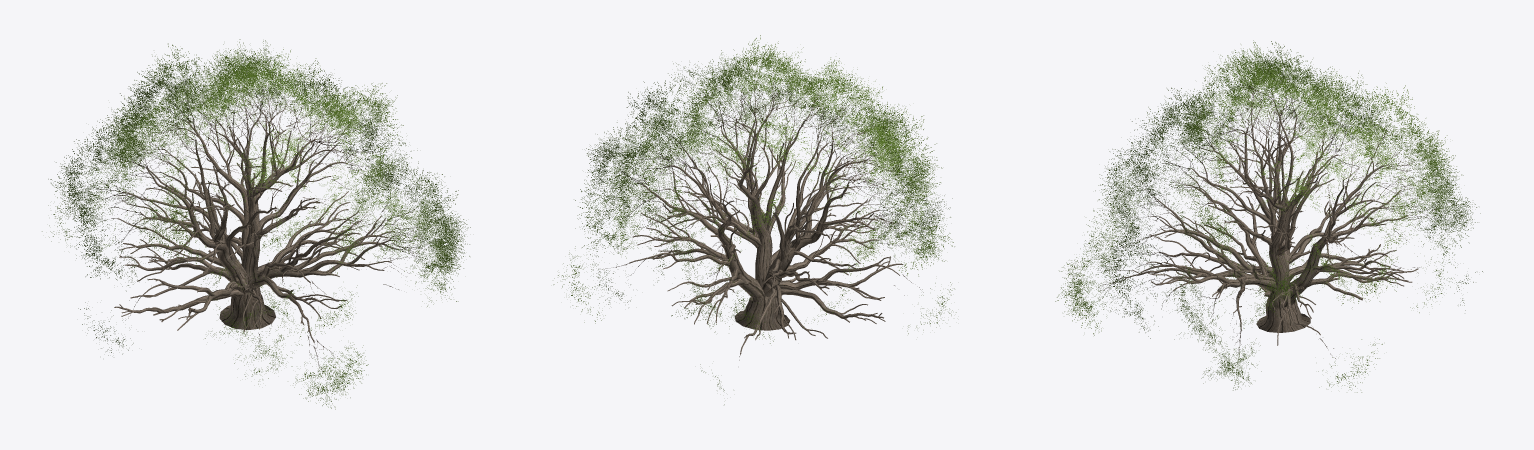
Rendered from oak_0.gltf.
3 views of the same model, side by side, from view 1: azimuth 30°, elevation 25°; view 2: azimuth 150°, elevation 25°; view 3: azimuth 270°, elevation 25° (orthographic). The views are drawn at different scales.
Visible parts, largest first — view 1: oak_0; view 2: oak_0; view 3: oak_0.
Part boxes in pixels (x1,y1,x2,y2): oak_0: [42, 39, 470, 409]; oak_0: [553, 35, 956, 404]; oak_0: [1055, 40, 1482, 392].
Bounding box in the file's own units: 13.94 × 10.39 × 14.15.
2 materials, 2 textured.
